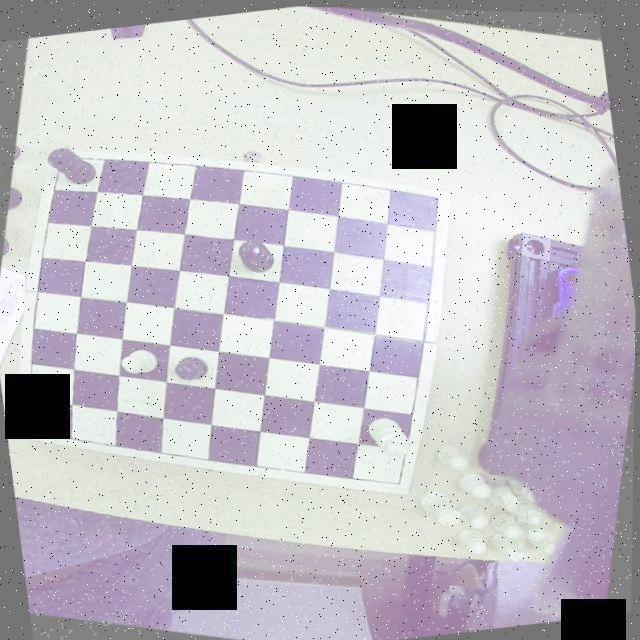chess-table-corners: (418, 183, 451, 214), (385, 464, 414, 494), (16, 418, 49, 444), (46, 150, 74, 174)
